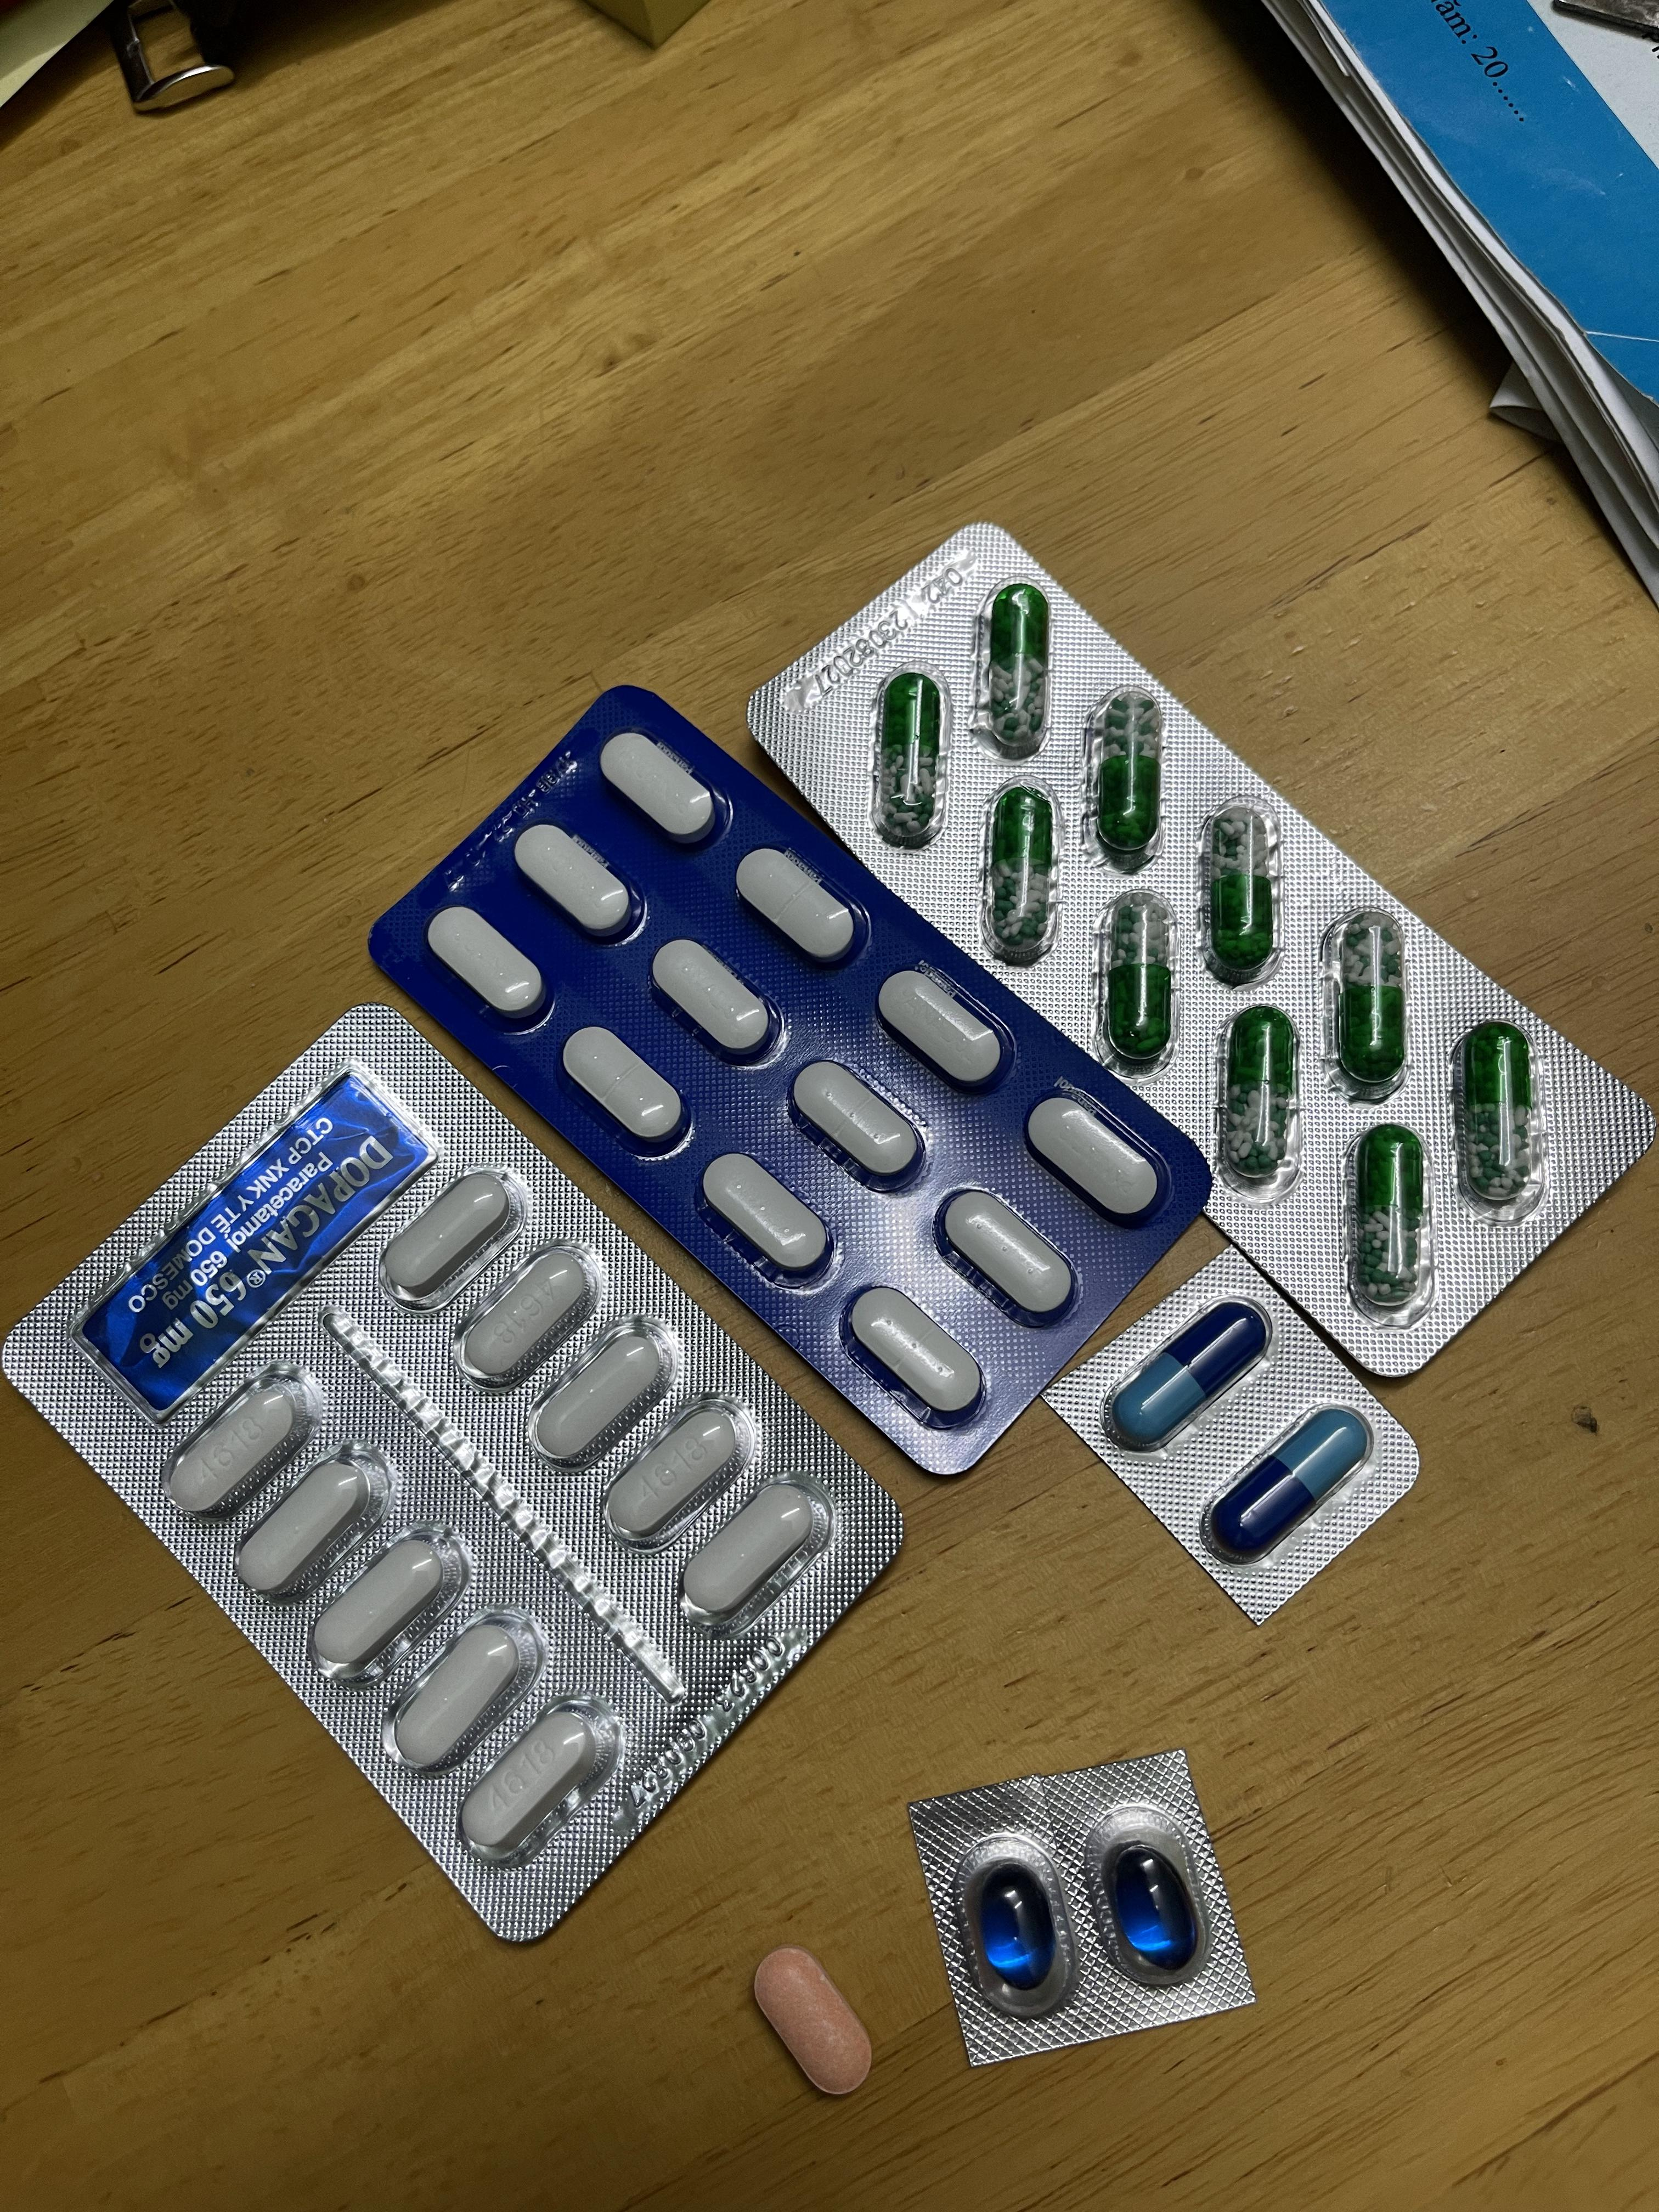Lincomyxin_500mg: (1112, 1843, 1194, 1963), (981, 1867, 1053, 1984)
Loratadine_10mg: (751, 1947, 873, 2094)
Paracetamol_350mg: (849, 1284, 983, 1418), (1025, 1090, 1161, 1221), (938, 1188, 1073, 1317), (791, 1055, 922, 1184), (650, 935, 777, 1062), (561, 1022, 685, 1150), (701, 1151, 828, 1275), (735, 845, 861, 967), (514, 822, 640, 942), (878, 967, 1002, 1087), (599, 728, 721, 848), (427, 904, 545, 1022)
Paracetamol_500mg: (462, 1698, 629, 1871), (307, 1514, 471, 1683), (160, 1357, 326, 1517), (383, 1608, 533, 1771), (232, 1444, 390, 1597), (695, 1474, 840, 1637), (528, 1317, 674, 1472), (598, 1400, 746, 1548), (450, 1244, 594, 1388), (378, 1170, 521, 1305)
Paracetamol_650mg: (983, 786, 1058, 961), (1223, 1007, 1298, 1181), (1331, 911, 1406, 1085), (1356, 1123, 1425, 1306), (1464, 1022, 1535, 1200), (1100, 888, 1173, 1061), (1091, 688, 1162, 857), (1204, 803, 1276, 972), (875, 671, 945, 840), (981, 583, 1049, 751)
pill: (1211, 1411, 1366, 1554), (1115, 1303, 1265, 1442)
